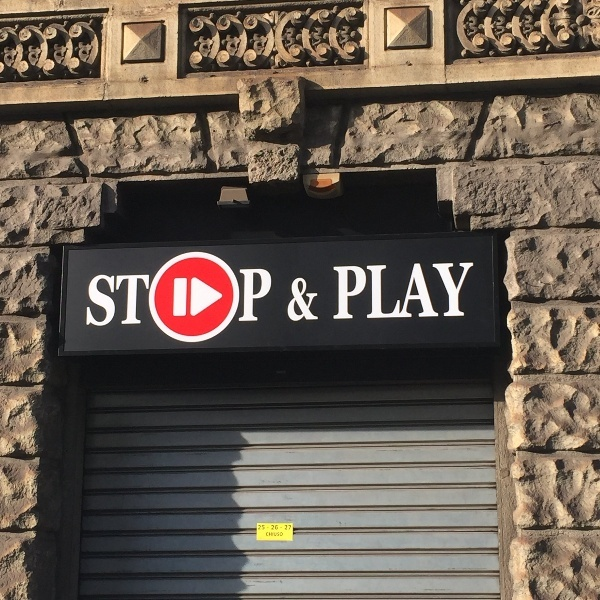text: (337, 262, 352, 320), (353, 262, 368, 320), (369, 262, 384, 320), (385, 262, 400, 320), (401, 262, 416, 320), (417, 262, 432, 320), (433, 262, 448, 320), (449, 262, 464, 320), (241, 269, 256, 323), (257, 269, 272, 323), (97, 274, 112, 327), (113, 274, 128, 327), (129, 274, 144, 327), (305, 279, 319, 322), (465, 262, 475, 320), (293, 279, 304, 322), (90, 274, 96, 327), (145, 274, 151, 327), (273, 269, 278, 323), (333, 262, 336, 320), (258, 525, 272, 530), (239, 269, 240, 323), (273, 533, 284, 536), (273, 525, 278, 530), (266, 533, 272, 536), (285, 525, 288, 530), (289, 525, 292, 530), (271, 525, 272, 530)
